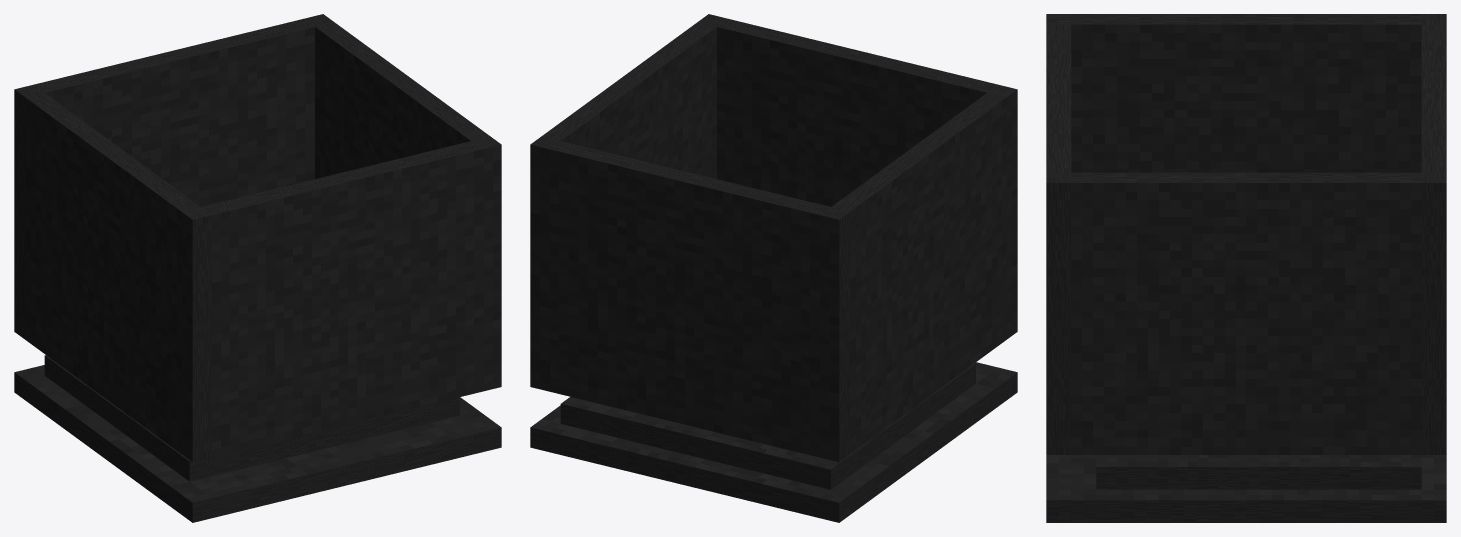
File: smelter2.obj
3 renders of one model, left to right at view 1: azimuth 30°, elevation 25°; view 2: azimuth 150°, elevation 25°; view 3: azimuth 270°, elevation 25°, orthographic. The views are drawn at different scales.
Visible parts, largest first — view 1: cube; view 2: cube; view 3: cube.
Part boxes in pixels (x1,y1,x2,y2): cube: (14,14,501,522); cube: (530,14,1017,522); cube: (1046,14,1446,522).
Bounding box in the file's own units: 16 × 15 × 16.
Materials: 1 (1 with a texture image).
